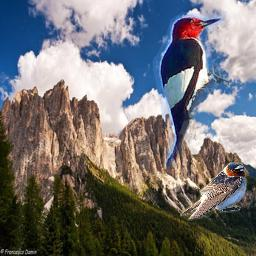Swallow: (180, 162, 247, 221)
Woodpecker: (146, 6, 230, 169)
